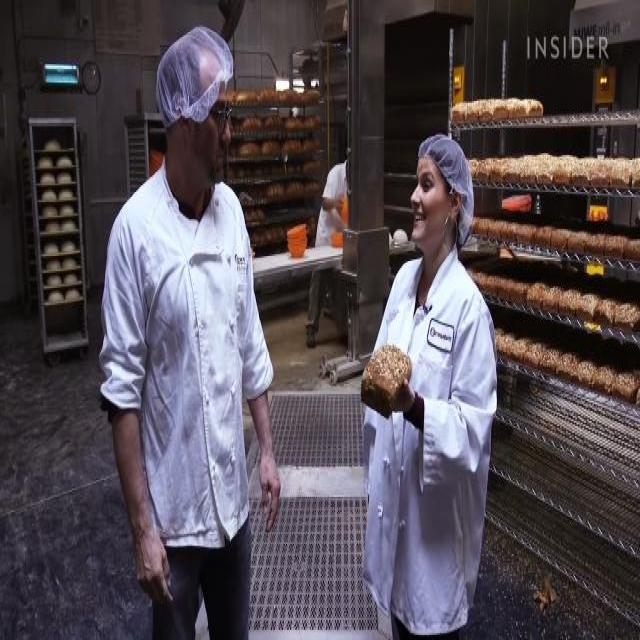hairnet: (416, 130, 478, 233), (156, 24, 225, 110)
